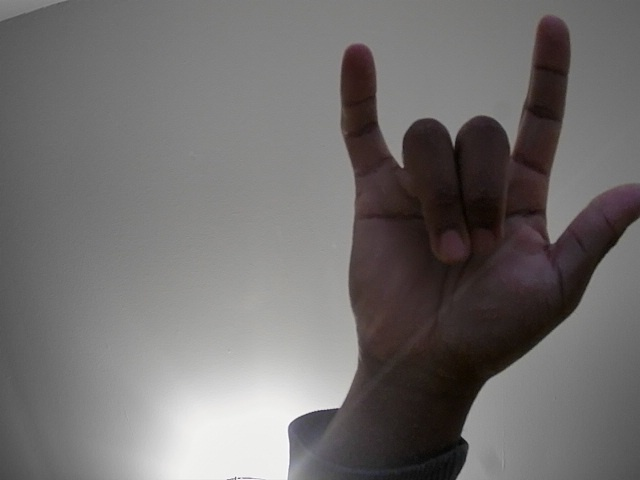ILoveYou: (330, 4, 640, 418)
